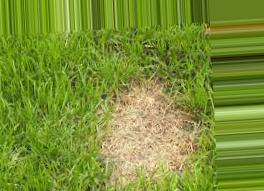patch: (118, 103, 174, 166), (108, 125, 130, 160), (132, 87, 160, 105)
